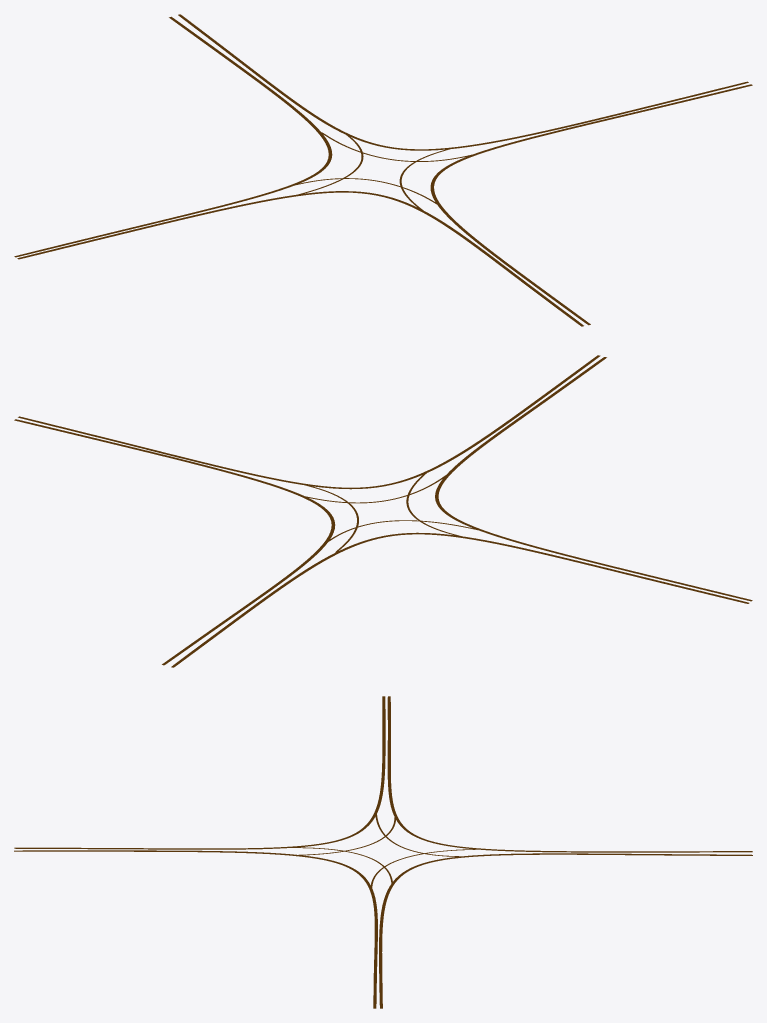
File: rail.gltf
3 views of the same model, one above another, from view 1: azimuth 30°, elevation 25°; view 2: azimuth 150°, elevation 25°; view 3: azimuth 270°, elevation 25° (orthographic). The views are drawn at different scales.
Visible parts, largest first — view 1: rail1, rail3, rail4, rail2; view 2: rail2, rail4, rail3, rail1; view 3: rail3, rail4, rail1, rail2.
Boxes of the visible parts, x1,y1,x2,y2 form: rail1: (17, 191, 583, 326); rail3: (178, 14, 748, 150); rail4: (430, 84, 752, 325); rail2: (14, 16, 332, 257); rail2: (171, 532, 749, 667); rail4: (18, 355, 600, 489); rail3: (14, 419, 335, 665); rail1: (435, 357, 752, 601); rail3: (379, 853, 752, 1008); rail4: (14, 850, 377, 1008); rail1: (14, 696, 385, 849); rail2: (387, 696, 752, 852).
Size of the model in its own units: 3.99 by 0.00177 by 3.99.
